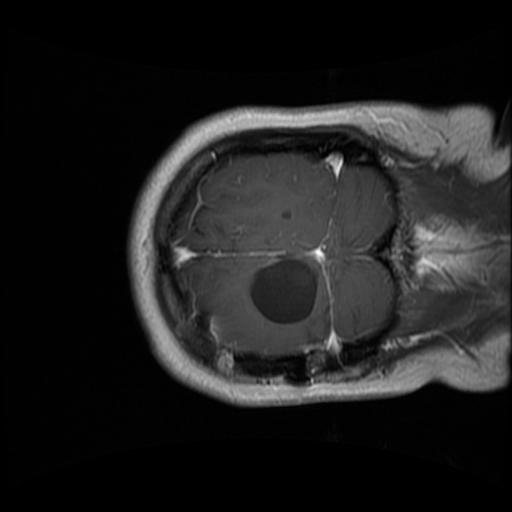glioma: (251, 259, 316, 327)
